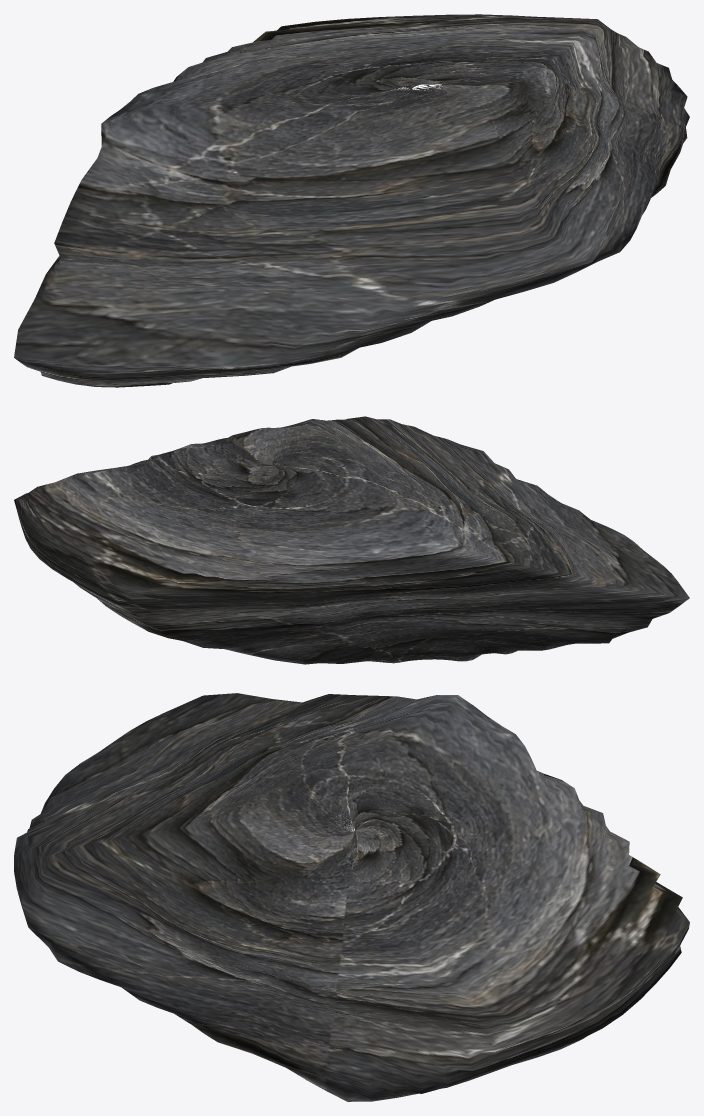
File: shale_fan.glb
3 views of the same model, one above another, from view 1: azimuth 30°, elevation 25°; view 2: azimuth 150°, elevation 25°; view 3: azimuth 270°, elevation 25° (orthographic). The views are drawn at different scales.
Parts seen in each view (by area): view 1: shale_fan; view 2: shale_fan; view 3: shale_fan.
Boxes of the visible parts, box(x1,y1,x2,y2) form: shale_fan: box(14, 14, 689, 387); shale_fan: box(14, 416, 689, 664); shale_fan: box(14, 693, 689, 1101).
Bounding box in the file's own units: 1.42 × 0.3459 × 0.9875.
Materials: 1 (1 with a texture image).
